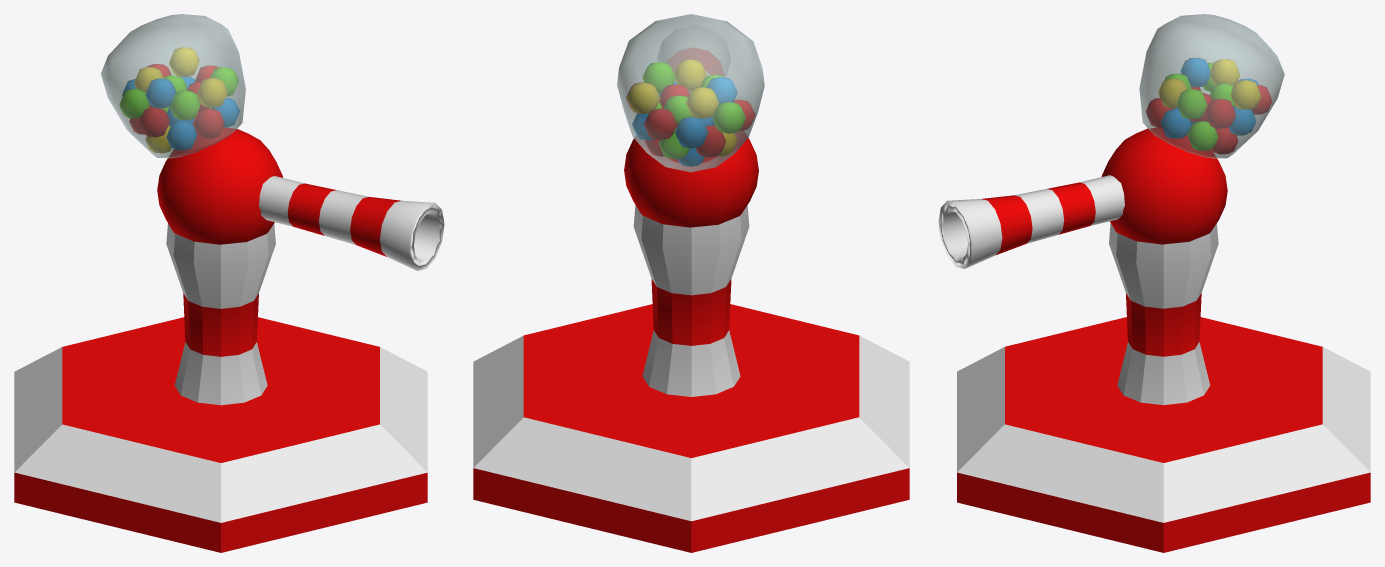
File: turretGumBall.fbx
3 views of the same model, side by side, from view 1: azimuth 30°, elevation 25°; view 2: azimuth 150°, elevation 25°; view 3: azimuth 270°, elevation 25° (orthographic). The views are drawn at different scales.
Parts seen in each view (by area): view 1: base, glass1, stand, cannon1, barrel1, gumBall46, gumBall38, gumBall30, gumBall27, gumBall39, gumBall33, gumBall45 (+1 smaller); view 2: base, glass1, stand, cannon1, barrel1, gumBall44, gumBall42, gumBall41, gumBall43, gumBall46, gumBall39, gumBall47 (+2 smaller); view 3: base, glass1, stand, cannon1, barrel1, gumBall46, gumBall47, gumBall40, gumBall28, gumBall29, gumBall45, gumBall44 (+2 smaller).
Boxes of the visible parts, x1,y1,x2,y2 form: base: (14, 317, 427, 552); glass1: (101, 14, 245, 158); stand: (166, 223, 275, 405); cannon1: (157, 127, 282, 244); barrel1: (259, 176, 444, 270); gumBall46: (169, 47, 199, 76); gumBall38: (139, 108, 169, 136); gumBall30: (194, 109, 224, 138); gumBall27: (166, 121, 196, 150); gumBall39: (197, 78, 227, 107); gumBall33: (170, 91, 200, 119); gumBall45: (145, 79, 175, 107); base: (473, 304, 909, 552); glass1: (617, 14, 764, 172); stand: (633, 205, 749, 396); cannon1: (624, 125, 758, 227); barrel1: (657, 25, 730, 91); gumBall44: (686, 87, 718, 118); gumBall42: (712, 102, 745, 133); gumBall41: (675, 117, 707, 148); gumBall43: (644, 108, 677, 139); gumBall46: (627, 82, 660, 113); gumBall39: (674, 59, 706, 90); gumBall47: (642, 62, 675, 93); base: (957, 317, 1370, 552); glass1: (1139, 14, 1284, 158); stand: (1109, 223, 1218, 405); cannon1: (1101, 127, 1227, 244); barrel1: (938, 175, 1124, 268); gumBall46: (1230, 80, 1260, 109); gumBall47: (1177, 89, 1207, 118); gumBall40: (1205, 99, 1235, 128); gumBall28: (1188, 121, 1217, 150); gumBall29: (1161, 109, 1191, 138); gumBall45: (1181, 58, 1210, 86); gumBall44: (1210, 59, 1239, 85).
Size of the model in its own units: 2 by 1.94 by 1.81.
